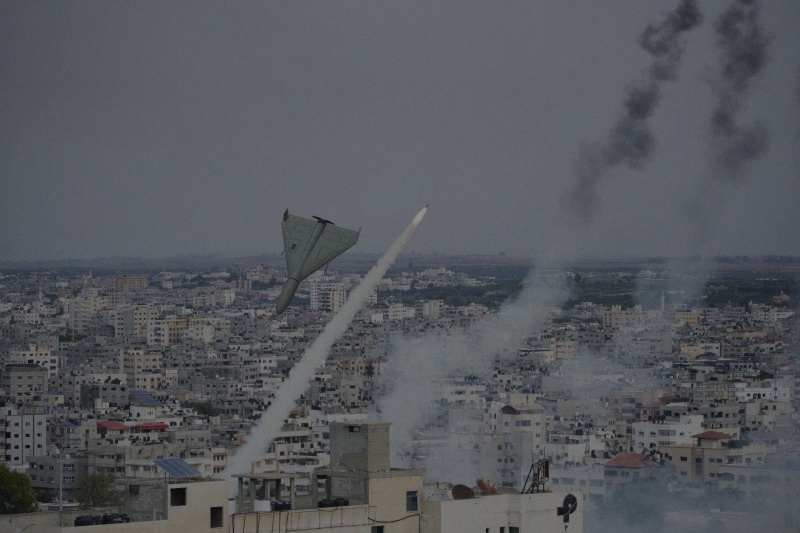shahed: (272, 207, 361, 315)
